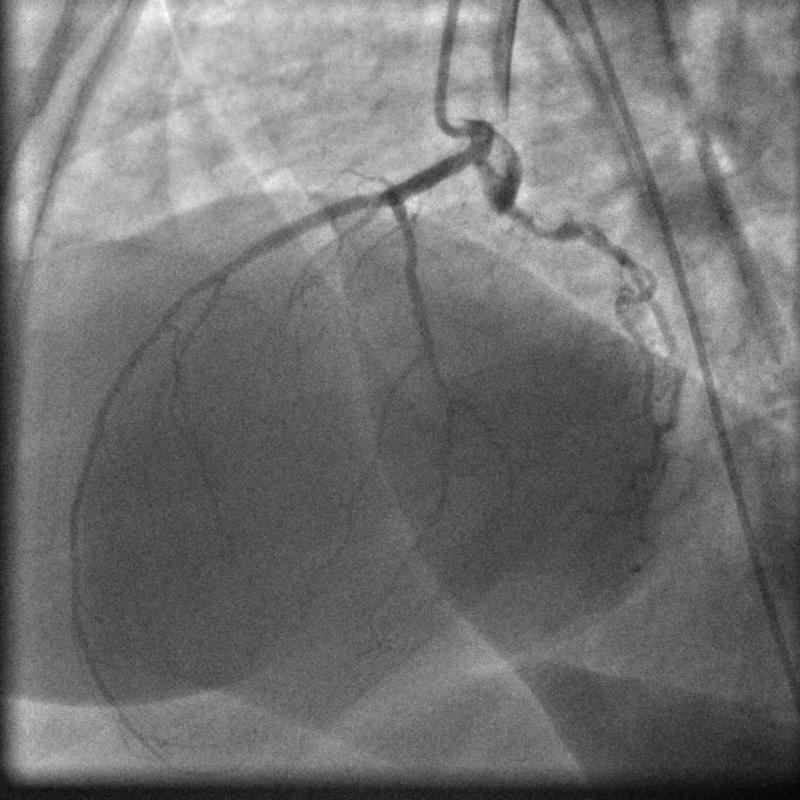Stenosis: (519, 207, 576, 256)
